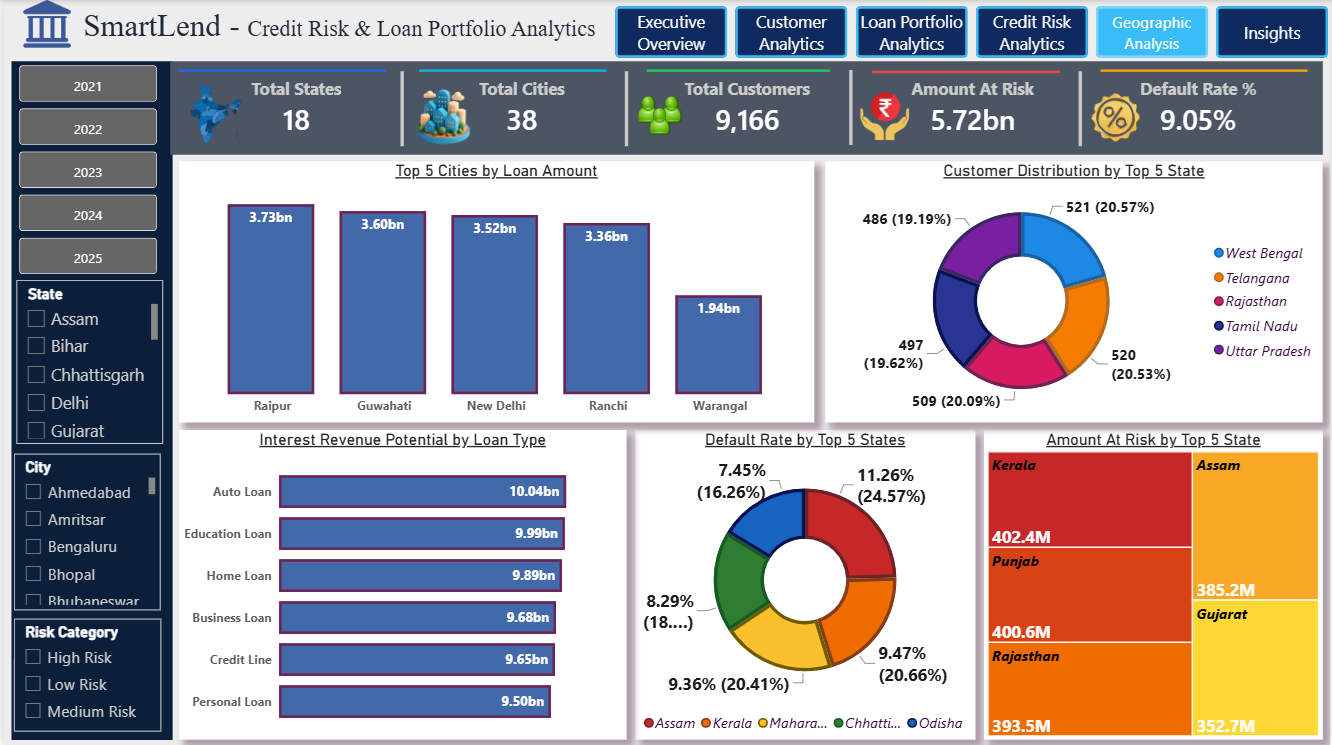

The dashboard page shown, as its layout file describes it:
{"tool":"powerbi","page":{"name":"Geographic Analysis","canvas":[1600,900],"ordinal":4},"visuals":[{"type":"shape","box":[9,73.9,194.5,818.9],"z":0},{"type":"shape","box":[200.6,73.9,1390.4,113.1],"z":1000},{"type":"cardVisual","fields":{"Data":["00_Measures.Total States","00_Measures.Total Cities","00_Measures.Totlal Customers","00_Measures.Amount At Risk","00_Measures.Default Rate"]},"box":[203.1,81.2,1387.5,96.9],"z":2000},{"type":"shape","box":[455.4,86,49.8,90.5],"z":3000},{"type":"donutChart","title":"Default Rate by Top 5 States","fields":{"Category":["SmartLend_Final_Analytics_Dataset.state"],"Y":["00_Measures.Default Rate"]},"box":[761.6,518.8,410,374],"z":4000},{"type":"slicer","fields":{"Values":["SmartLend_Final_Analytics_Dataset.state"]},"box":[15.1,337.8,176.4,197.6],"z":5000},{"type":"slicer","fields":{"Values":["SmartLend_Final_Analytics_Dataset.risk_category"]},"box":[12.1,746.5,177.9,135.7],"z":6000},{"type":"slicer","fields":{"Values":["SmartLend_Final_Analytics_Dataset.city"]},"box":[12.1,547.4,176.4,188.5],"z":7000},{"type":"shape","box":[1274.3,86,48.3,90.5],"z":8000},{"type":"shape","box":[996.8,84.5,49.8,90.5],"z":9000},{"type":"shape","box":[726.9,86,48.3,90.5],"z":10000},{"type":"image","box":[13.6,0,76.9,57.3],"z":11000},{"type":"textbox","box":[90.5,0,636.4,73.9],"z":12000},{"type":"image","box":[481.1,102.5,98,75.4],"z":13000},{"type":"image","box":[203.6,102.5,105.6,72.4],"z":14000},{"type":"image","box":[1022.5,102.5,79.9,75.4],"z":15000},{"type":"shape","box":[211.1,73.9,250.3,22.6],"z":16000},{"type":"shape","box":[500.7,73.9,226.2,22.6],"z":17000},{"type":"shape","box":[1046.6,75.4,227.7,22.6],"z":18000},{"type":"shape","box":[775.1,73.9,221.7,22.6],"z":19000},{"type":"shape","box":[1322.6,73.9,250.3,22.6],"z":20000},{"type":"columnChart","title":"Top 5 Cities by Loan Amount","fields":{"Category":["SmartLend_Final_Analytics_Dataset.city"],"Y":["00_Measures.Total Loan Amount"]},"box":[211.1,194.5,766.1,315.2],"z":21000},{"type":"treemap","title":"Amount At Risk by Top 5 State","fields":{"Group":["SmartLend_Final_Analytics_Dataset.state"],"Values":["00_Measures.Amount At Risk"]},"box":[1182.3,518.8,408.7,374],"z":22000},{"type":"advancedSlicerVisual","fields":{"Values":["SmartLend_Final_Analytics_Dataset.loan_issue_date.Variation.Date Hierarchy.Year"]},"box":[13.6,73.9,176.4,263.9],"z":23000},{"type":"image","box":[1298.4,111.6,87.5,63.3],"z":24000},{"type":"image","box":[751,111.6,79.9,54.3],"z":25000},{"type":"donutChart","title":"Customer Distribution by Top 5 State","fields":{"Category":["SmartLend_Final_Analytics_Dataset.state"],"Y":["00_Measures.Total Customers"]},"box":[990.8,194.5,600.2,315.2],"z":26000},{"type":"clusteredBarChart","title":"Interest Revenue Potential by Loan Type","fields":{"Category":["SmartLend_Final_Analytics_Dataset.loan_type"],"Y":["00_Measures.Interest Revenue Potential"]},"box":[211.1,518.8,539.9,374],"z":27000},{"type":"pageNavigator","box":[737.4,7.5,862.6,62],"z":28000}]}

Visuals, with their boxes in screenshot pixels (x1, y1, x2, y2), scaled from the page's 1600x900 canvas onto the 1332x745 screenshot:
shape: [left=7, top=61, right=169, bottom=739]
shape: [left=167, top=61, right=1325, bottom=155]
cardVisual - 00_Measures.Total States x 00_Measures.Total Cities: [left=169, top=67, right=1324, bottom=147]
shape: [left=379, top=71, right=421, bottom=146]
"Default Rate by Top 5 States" donutChart: [left=634, top=429, right=975, bottom=739]
slicer - SmartLend_Final_Analytics_Dataset.state: [left=13, top=280, right=159, bottom=443]
slicer - SmartLend_Final_Analytics_Dataset.risk_category: [left=10, top=618, right=158, bottom=730]
slicer - SmartLend_Final_Analytics_Dataset.city: [left=10, top=453, right=157, bottom=609]
shape: [left=1061, top=71, right=1101, bottom=146]
shape: [left=830, top=70, right=871, bottom=145]
shape: [left=605, top=71, right=645, bottom=146]
image: [left=11, top=0, right=75, bottom=47]
textbox: [left=75, top=0, right=605, bottom=61]
image: [left=401, top=85, right=482, bottom=147]
image: [left=169, top=85, right=257, bottom=145]
image: [left=851, top=85, right=918, bottom=147]
shape: [left=176, top=61, right=384, bottom=80]
shape: [left=417, top=61, right=605, bottom=80]
shape: [left=871, top=62, right=1061, bottom=81]
shape: [left=645, top=61, right=830, bottom=80]
shape: [left=1101, top=61, right=1309, bottom=80]
"Top 5 Cities by Loan Amount" columnChart: [left=176, top=161, right=814, bottom=422]
"Amount At Risk by Top 5 State" treemap: [left=984, top=429, right=1325, bottom=739]
advancedSlicerVisual - SmartLend_Final_Analytics_Dataset.loan_issue_date.Variation.Date Hierarchy.Year: [left=11, top=61, right=158, bottom=280]
image: [left=1081, top=92, right=1154, bottom=145]
image: [left=625, top=92, right=692, bottom=137]
"Customer Distribution by Top 5 State" donutChart: [left=825, top=161, right=1325, bottom=422]
"Interest Revenue Potential by Loan Type" clusteredBarChart: [left=176, top=429, right=625, bottom=739]
pageNavigator: [left=614, top=6, right=1331, bottom=58]
